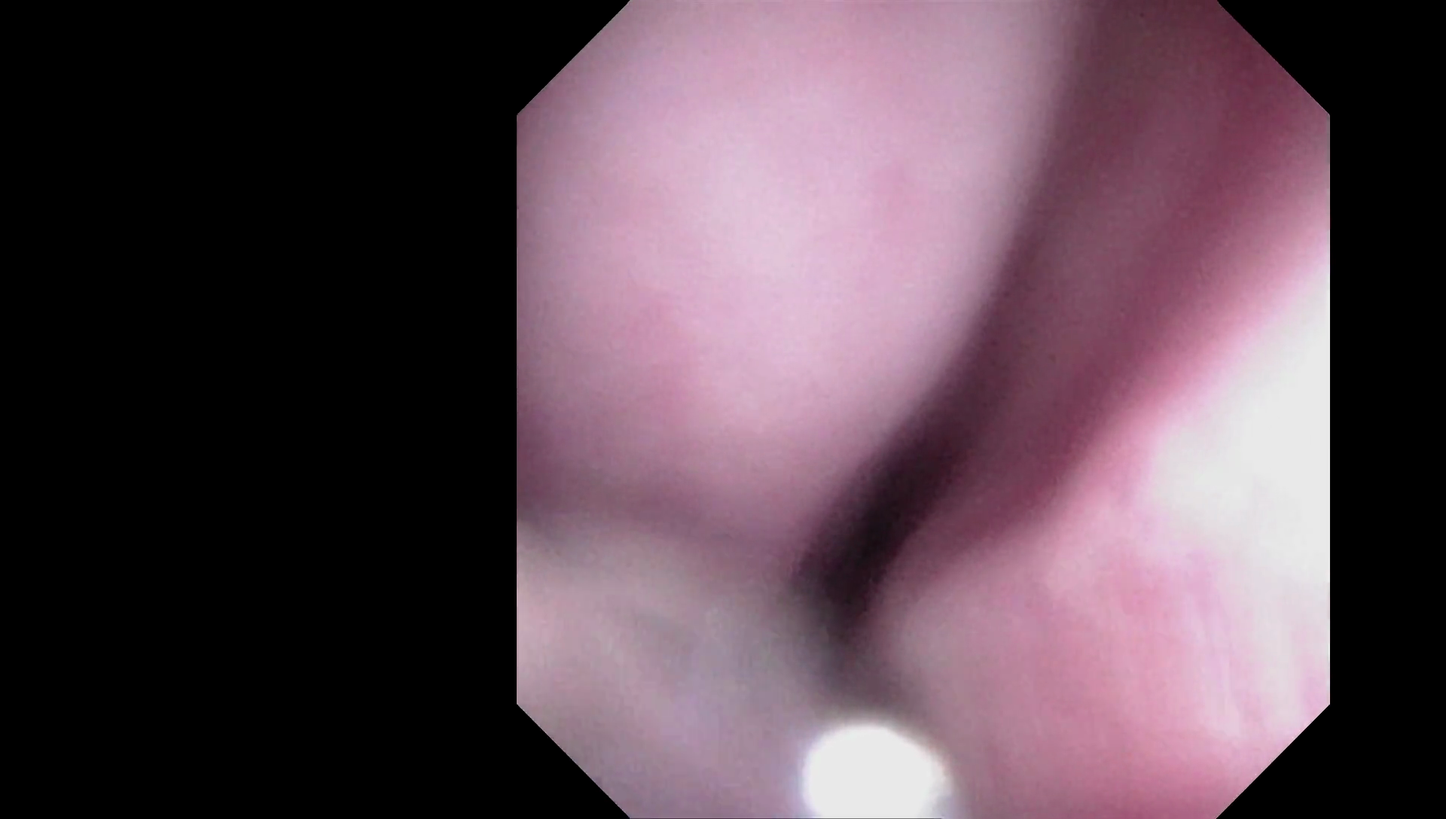close_wall: (1017, 148, 1329, 696)
next: (754, 391, 993, 678)
